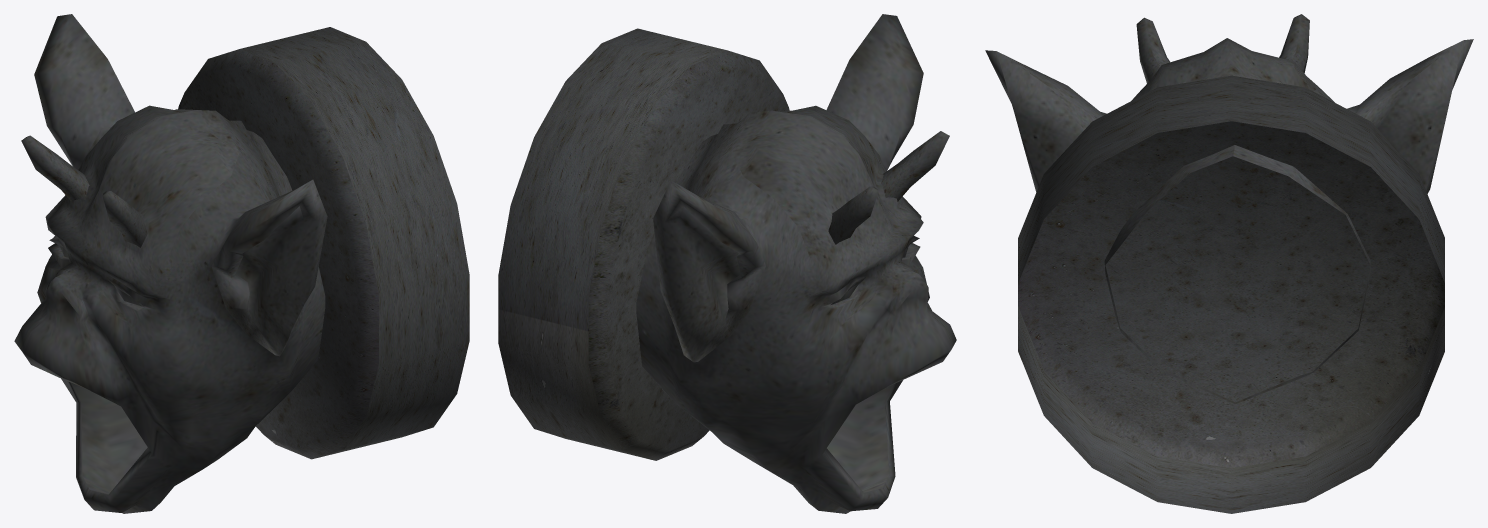
Rendered from Trap_SpitFire.FBX.
The picture shows the model from 3 angles, left to right: view 1: azimuth 30°, elevation 25°; view 2: azimuth 150°, elevation 25°; view 3: azimuth 270°, elevation 25°; orthographic projection. The views are drawn at different scales.
Parts seen in each view (by area): view 1: Trap_SpitFire; view 2: Trap_SpitFire; view 3: Trap_SpitFire.
Part boxes in pixels (left/top/right/bottom): Trap_SpitFire: left=14, top=14, right=469, bottom=513; Trap_SpitFire: left=498, top=14, right=956, bottom=513; Trap_SpitFire: left=985, top=14, right=1473, bottom=513.
Size of the model in its own units: 38.62 by 43.87 by 45.71.
